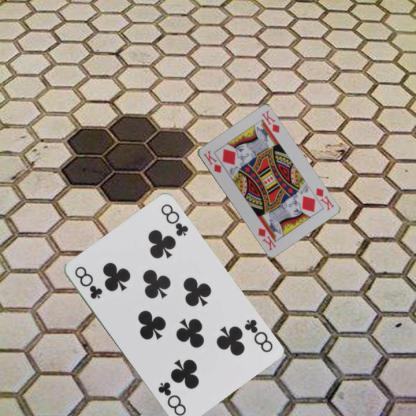8c: (241, 316, 274, 354), (71, 264, 103, 300)
Kd: (200, 148, 223, 174), (313, 186, 335, 212)
